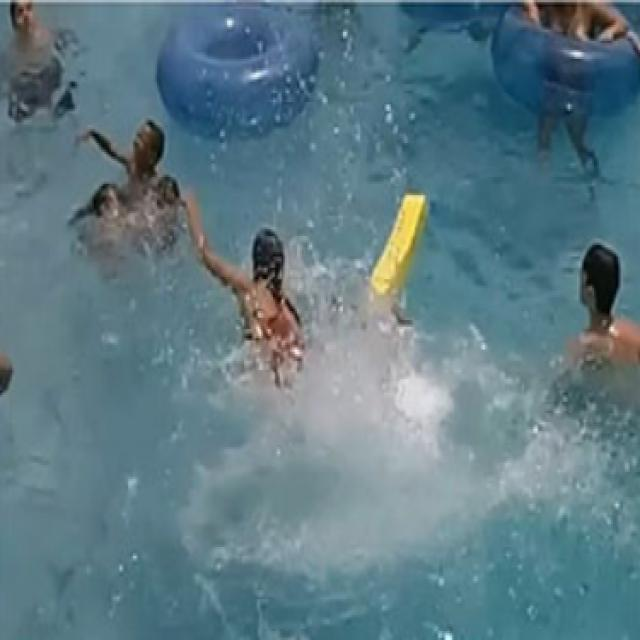Drowning: (183, 194, 309, 380), (69, 111, 181, 241)
Swimming: (561, 226, 640, 381)
